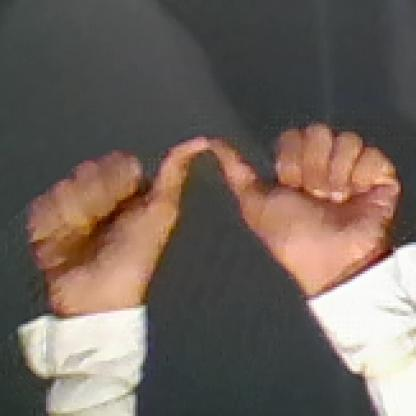A: (25, 114, 398, 299)
